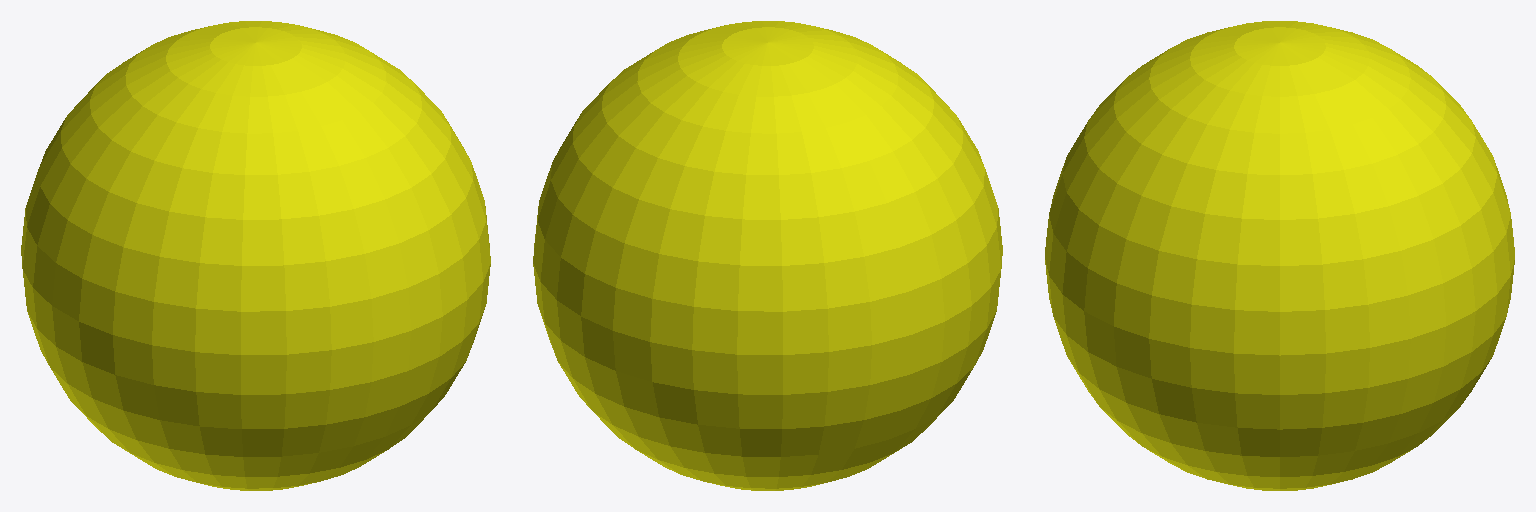
The model's file is light.obj.
3 views of the same model, side by side, from view 1: azimuth 30°, elevation 25°; view 2: azimuth 150°, elevation 25°; view 3: azimuth 270°, elevation 25° (orthographic).
Visible parts, largest first — view 1: Sphere; view 2: Sphere; view 3: Sphere.
Part boxes in pixels (left/top/right/bottom): Sphere: left=21, top=21, right=490, bottom=490; Sphere: left=533, top=21, right=1002, bottom=490; Sphere: left=1045, top=21, right=1514, bottom=490.
Bounding box in the file's own units: 2 × 2 × 2.